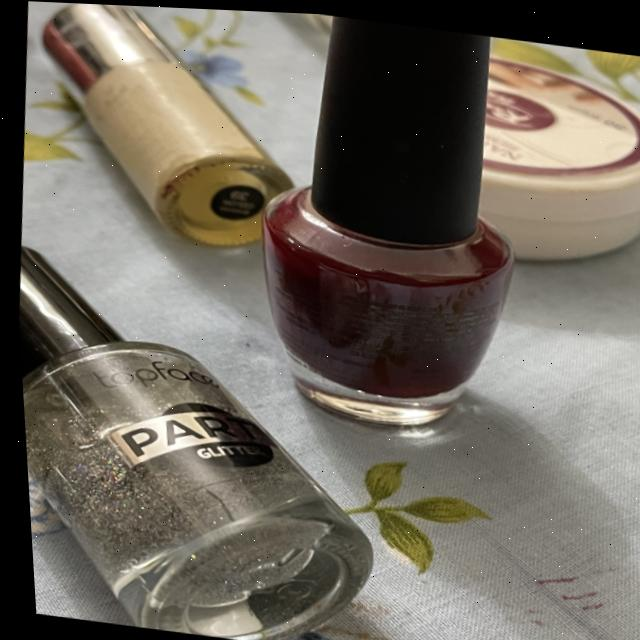nail polish: (11, 226, 407, 640), (231, 8, 548, 446), (9, 0, 308, 250)
